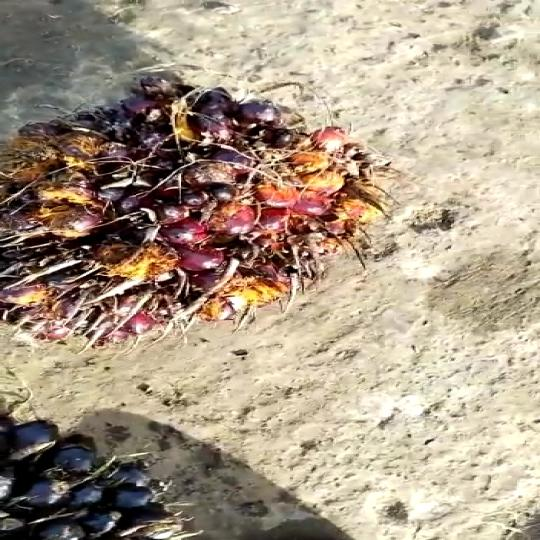masak: (0, 76, 397, 349)
